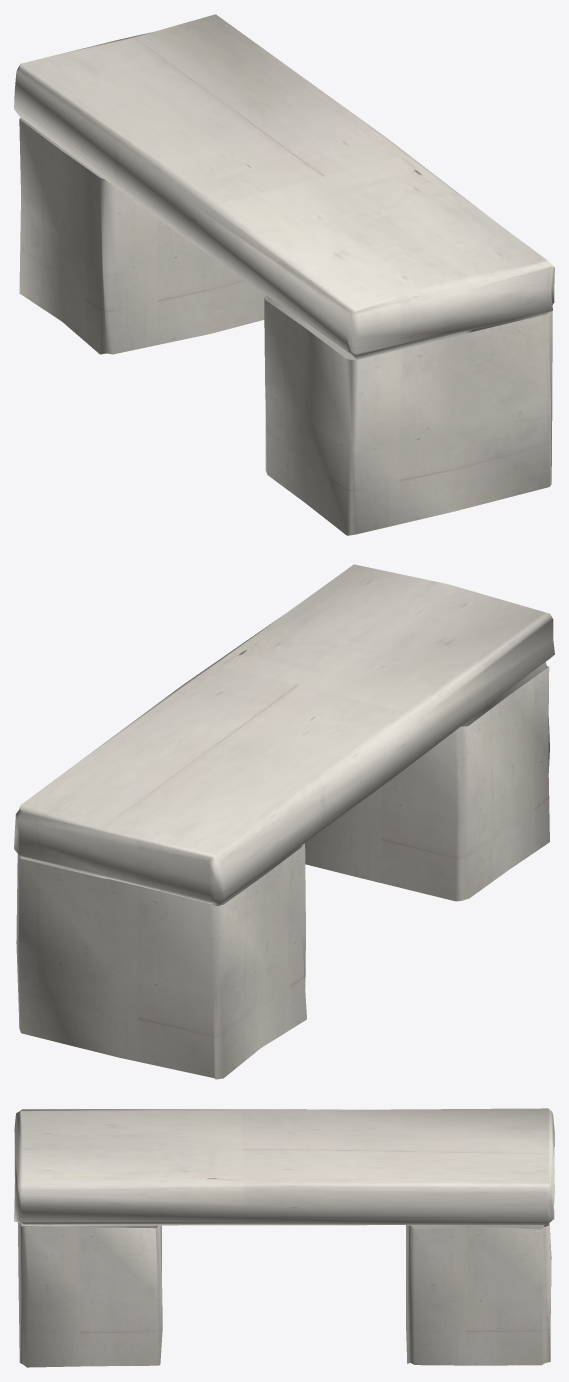
Rendered from tablelimestone.glb.
3 views of the same model, one above another, from view 1: azimuth 30°, elevation 25°; view 2: azimuth 150°, elevation 25°; view 3: azimuth 270°, elevation 25° (orthographic). The views are drawn at different scales.
Visible parts, largest first — view 1: Cube; view 2: Cube; view 3: Cube.
Part boxes in pixels (x1,y1,x2,y2): Cube: (14,14,554,535); Cube: (14,564,554,1079); Cube: (14,1108,554,1367).
Size of the model in its own units: 2.74 by 2.84 by 7.58.
1 material, 1 textured.
